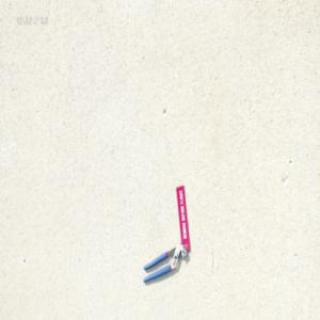LuggageTagtrack_idkeyframe: (176, 180, 190, 248)
Pliertrack_idkeyframe: (142, 242, 186, 282)
